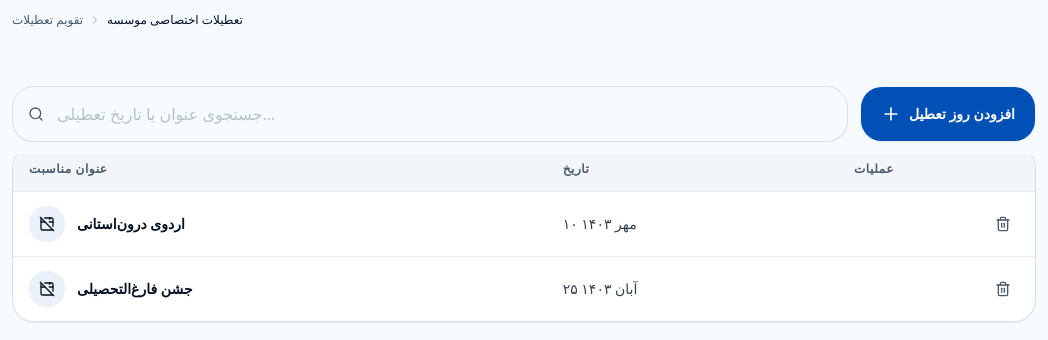
it: CustomOffDaysContent › filters custom off-days using the search input
Expected: the text "اردوی درون‌استانی" is shown, x1=77 y1=214 x2=185 y2=234
Expected: the text "جشن فارغ‌التحصیلی" is shown, x1=77 y1=278 x2=193 y2=298
Type "فارغ‌التحصیلی" into the field with placeholder "جستجوی عنوان یا تاریخ تعطیلی...".
click(430, 114); type("فارغ‌التحصیلی")  # box x1=12 y1=86 x2=848 y2=142
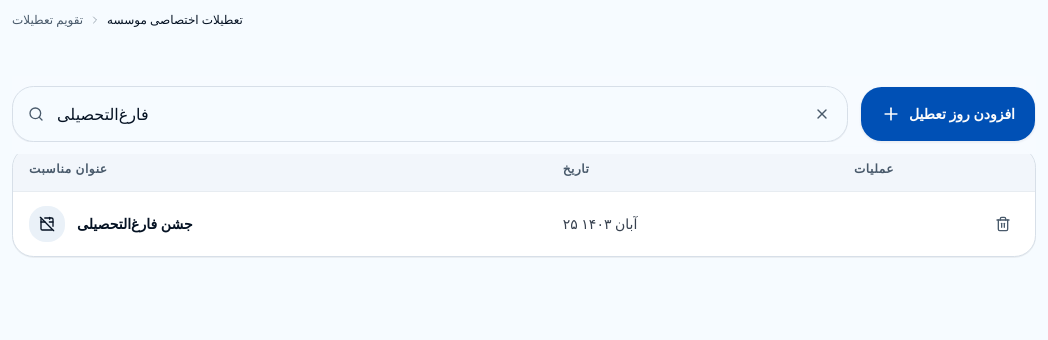
Expected: the text "جشن فارغ‌التحصیلی" is shown, x1=77 y1=214 x2=193 y2=234
Expected: the text "اردوی درون‌استانی" is gone
